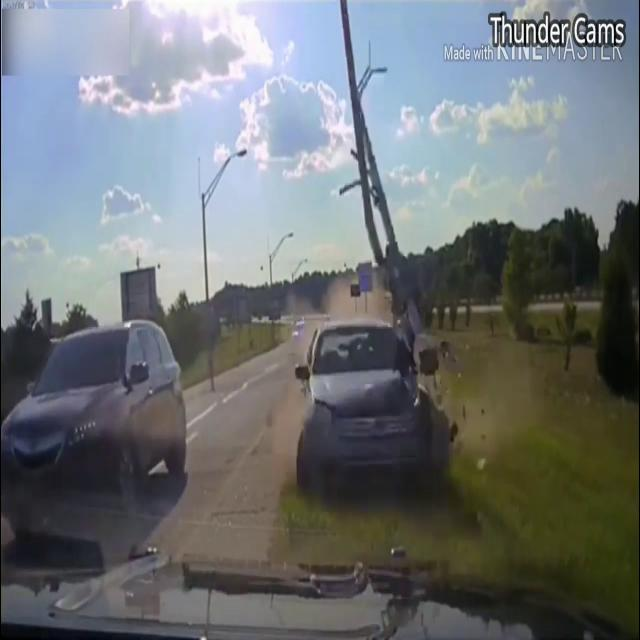accident: (291, 282, 462, 513)
